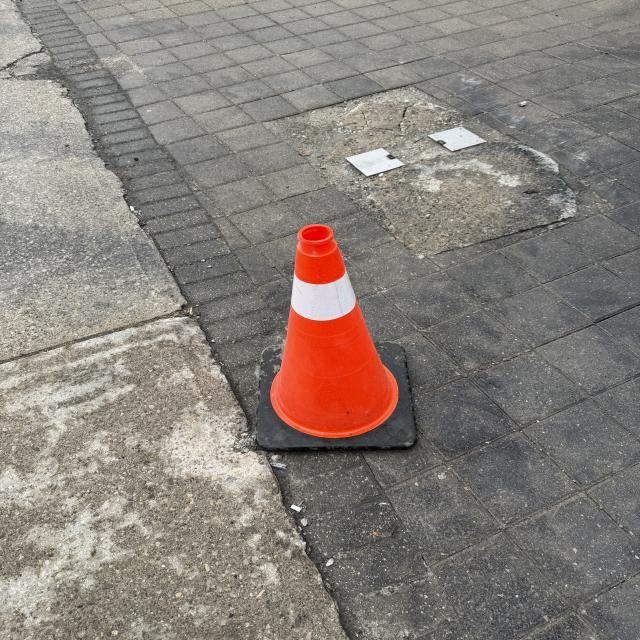Traffic Cone: (253, 222, 419, 451)
